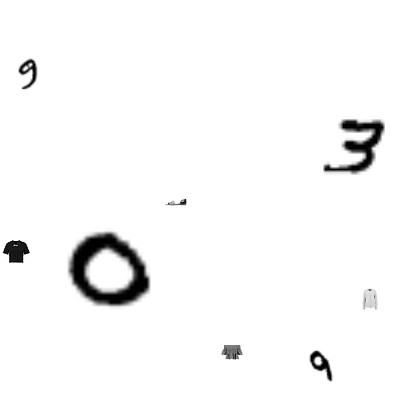0: (49, 213, 161, 325)
3: (318, 102, 402, 186)
9: (300, 342, 342, 384), (7, 50, 49, 92)
Sandal: (165, 191, 187, 213)
Shirt: (359, 288, 381, 310), (221, 341, 243, 363)
T-shirt/top: (2, 237, 30, 265)
